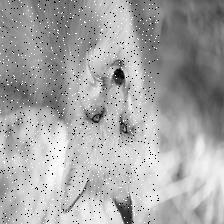fox: (0, 0, 159, 224)
